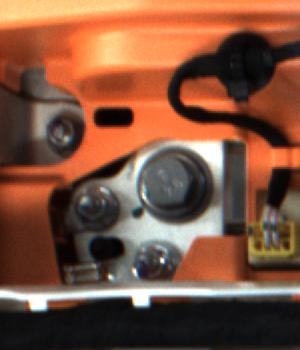nut_b: (135, 139, 217, 227)
